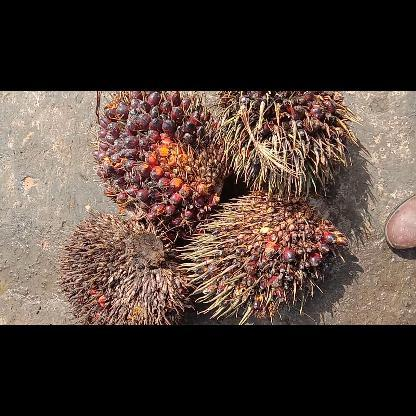Kurang masak: (212, 90, 358, 198)
TBS abnormal: (171, 191, 347, 324), (61, 214, 189, 324)
Terlalu masak: (94, 90, 226, 235)
